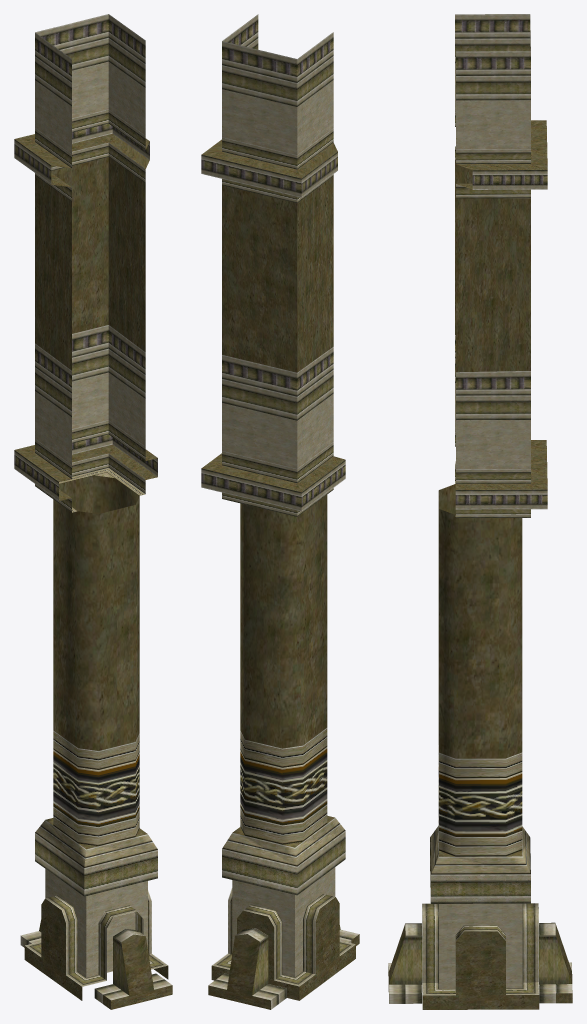
Rendered from CH09_SMAUG_PLAYSURFACE_LAIR59.fbx.
The picture shows the model from 3 angles, left to right: view 1: azimuth 30°, elevation 25°; view 2: azimuth 150°, elevation 25°; view 3: azimuth 270°, elevation 25°; orthographic projection. The views are drawn at different scales.
Visible parts, largest first — view 1: CH09_SMAUG_PLAYSURFACE_LAIR59; view 2: CH09_SMAUG_PLAYSURFACE_LAIR59; view 3: CH09_SMAUG_PLAYSURFACE_LAIR59.
Part boxes in pixels (left/top/right/bottom): CH09_SMAUG_PLAYSURFACE_LAIR59: left=14, top=14, right=172, bottom=1009; CH09_SMAUG_PLAYSURFACE_LAIR59: left=201, top=14, right=359, bottom=1009; CH09_SMAUG_PLAYSURFACE_LAIR59: left=388, top=14, right=572, bottom=1009.
Size of the model in its own units: 30421 by 271667 by 47459.
7 materials, 7 textured.
